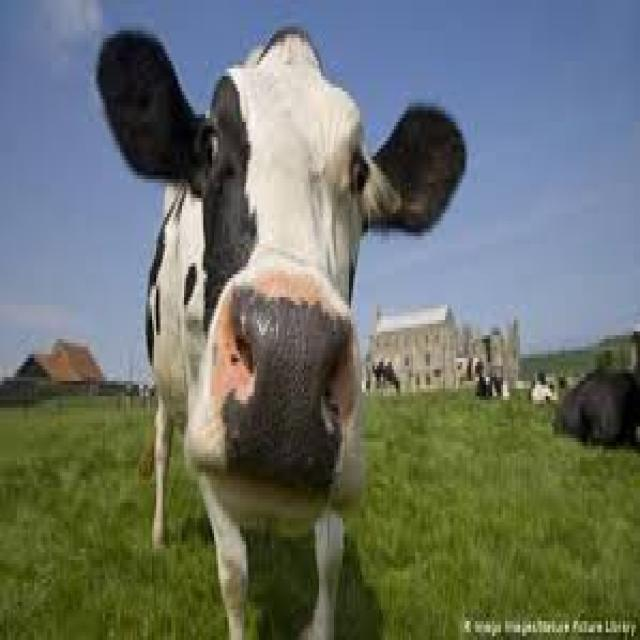cow: (163, 62, 392, 493)
